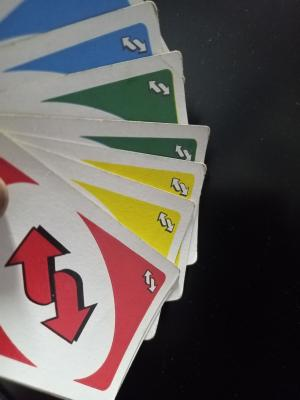reverse: (5, 222, 104, 350), (117, 30, 156, 61), (149, 206, 184, 239), (146, 76, 179, 105), (138, 265, 165, 300), (166, 140, 198, 167), (168, 174, 193, 203)
